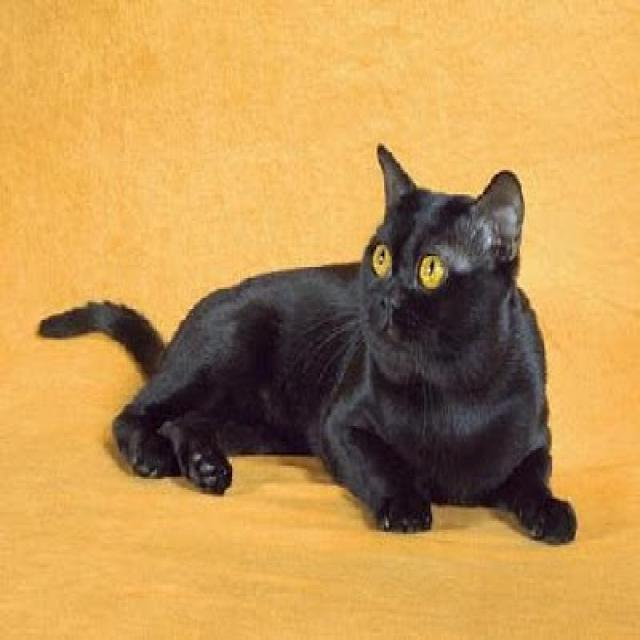Bombay: (359, 142, 522, 378)
